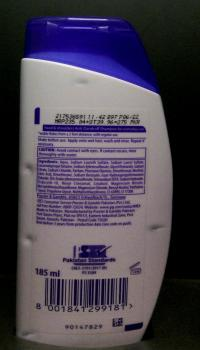dent_unacceptable: (143, 220, 172, 236), (23, 157, 42, 181), (19, 326, 49, 341), (20, 229, 40, 251), (69, 76, 95, 87)
